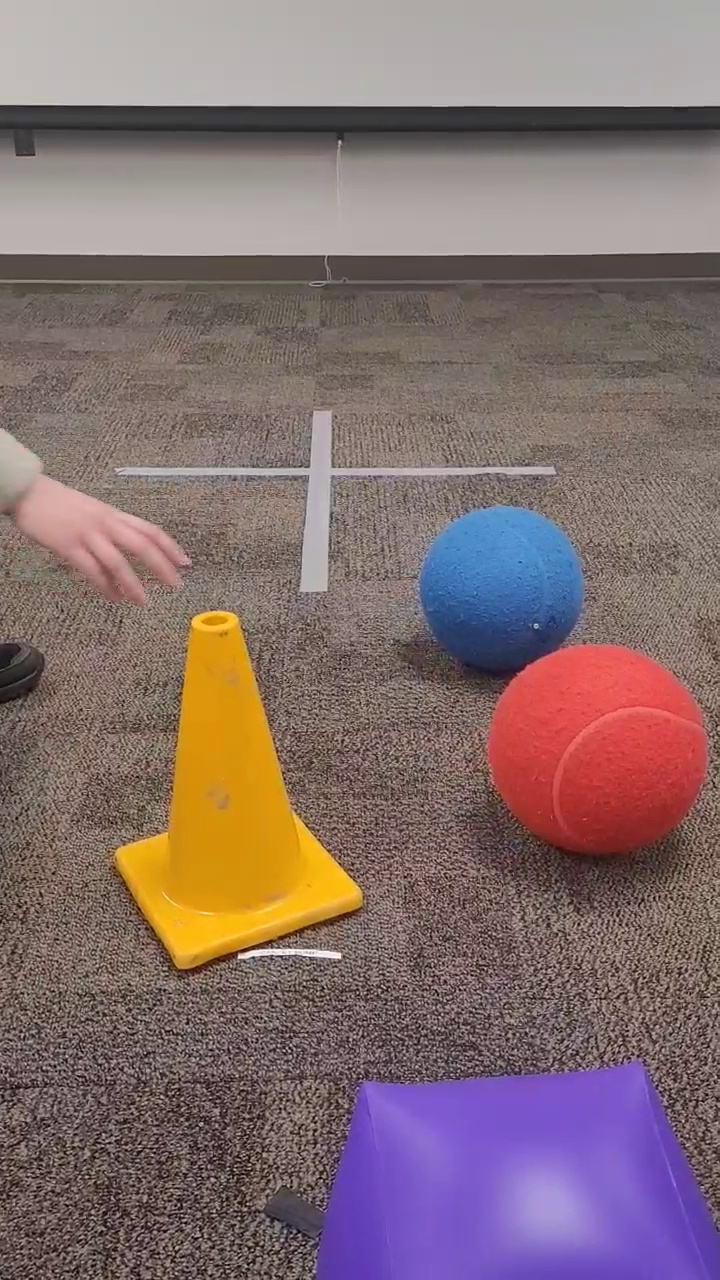ball: (485, 641, 712, 861), (414, 502, 586, 677), (1, 634, 49, 710)
cone: (109, 609, 365, 979)
cube: (308, 1060, 718, 1278)
hand: (1, 426, 194, 608)
